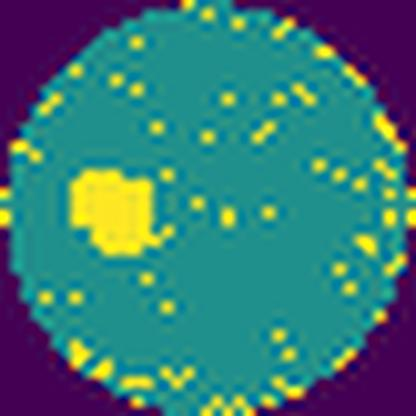Loc: (65, 169, 176, 257)
